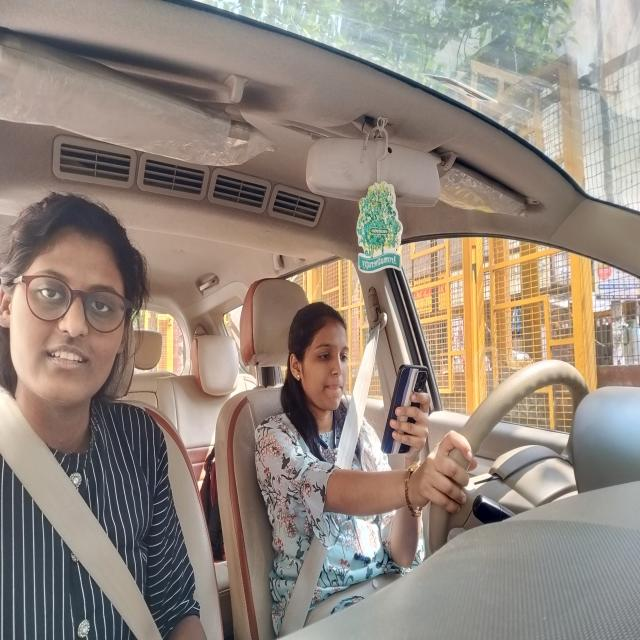mobile: (378, 356, 430, 460)
person: (0, 194, 147, 411), (286, 301, 358, 418)
